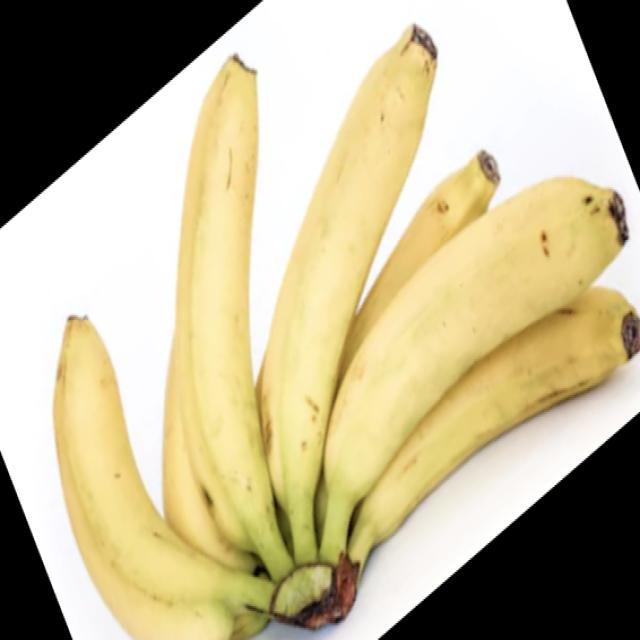Banana: (51, 23, 639, 639)
